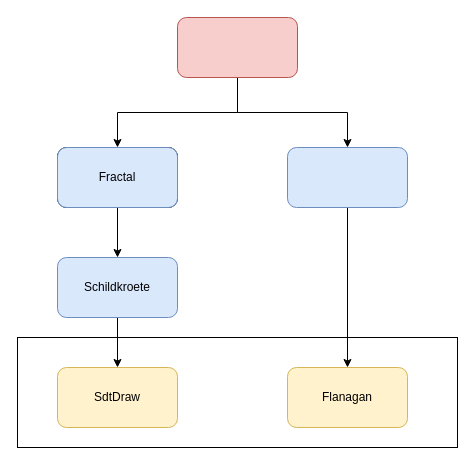
Some shapes in this 475 by 465 pixel diagram are drawn without their labels. Each missing label, with the box of its shape:
Bibliotheken: (16, 336, 458, 448)
GUI: (286, 146, 408, 208)
Main (Monsterkurve): (176, 16, 298, 78)
